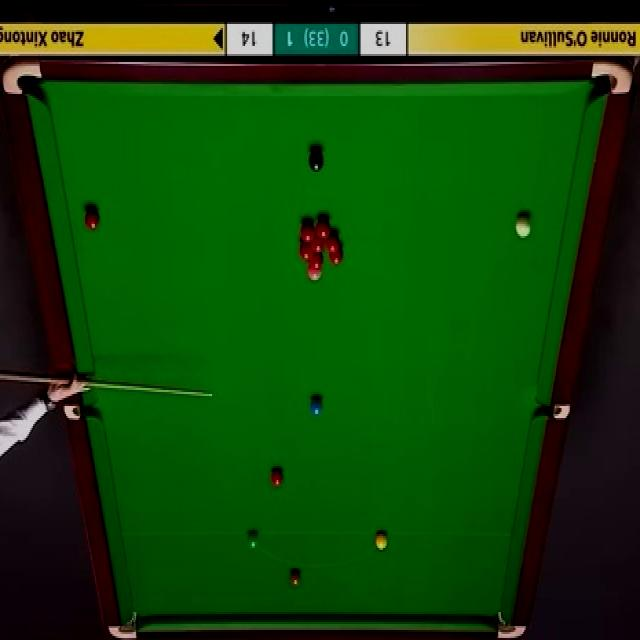black-ball: (309, 146, 325, 174)
blue-ball: (310, 395, 324, 415)
brown-ball: (288, 568, 302, 588)
green-ball: (245, 528, 261, 549)
pink-ball: (306, 270, 322, 282)
red-ball: (84, 205, 100, 231), (300, 218, 315, 242), (316, 217, 330, 239), (329, 245, 344, 265), (270, 468, 284, 488), (301, 239, 313, 261), (311, 237, 326, 254), (308, 253, 323, 270), (326, 233, 339, 251), (388, 122, 389, 122)
white-ball: (514, 211, 532, 237)
yellow-ball: (375, 530, 388, 550)
